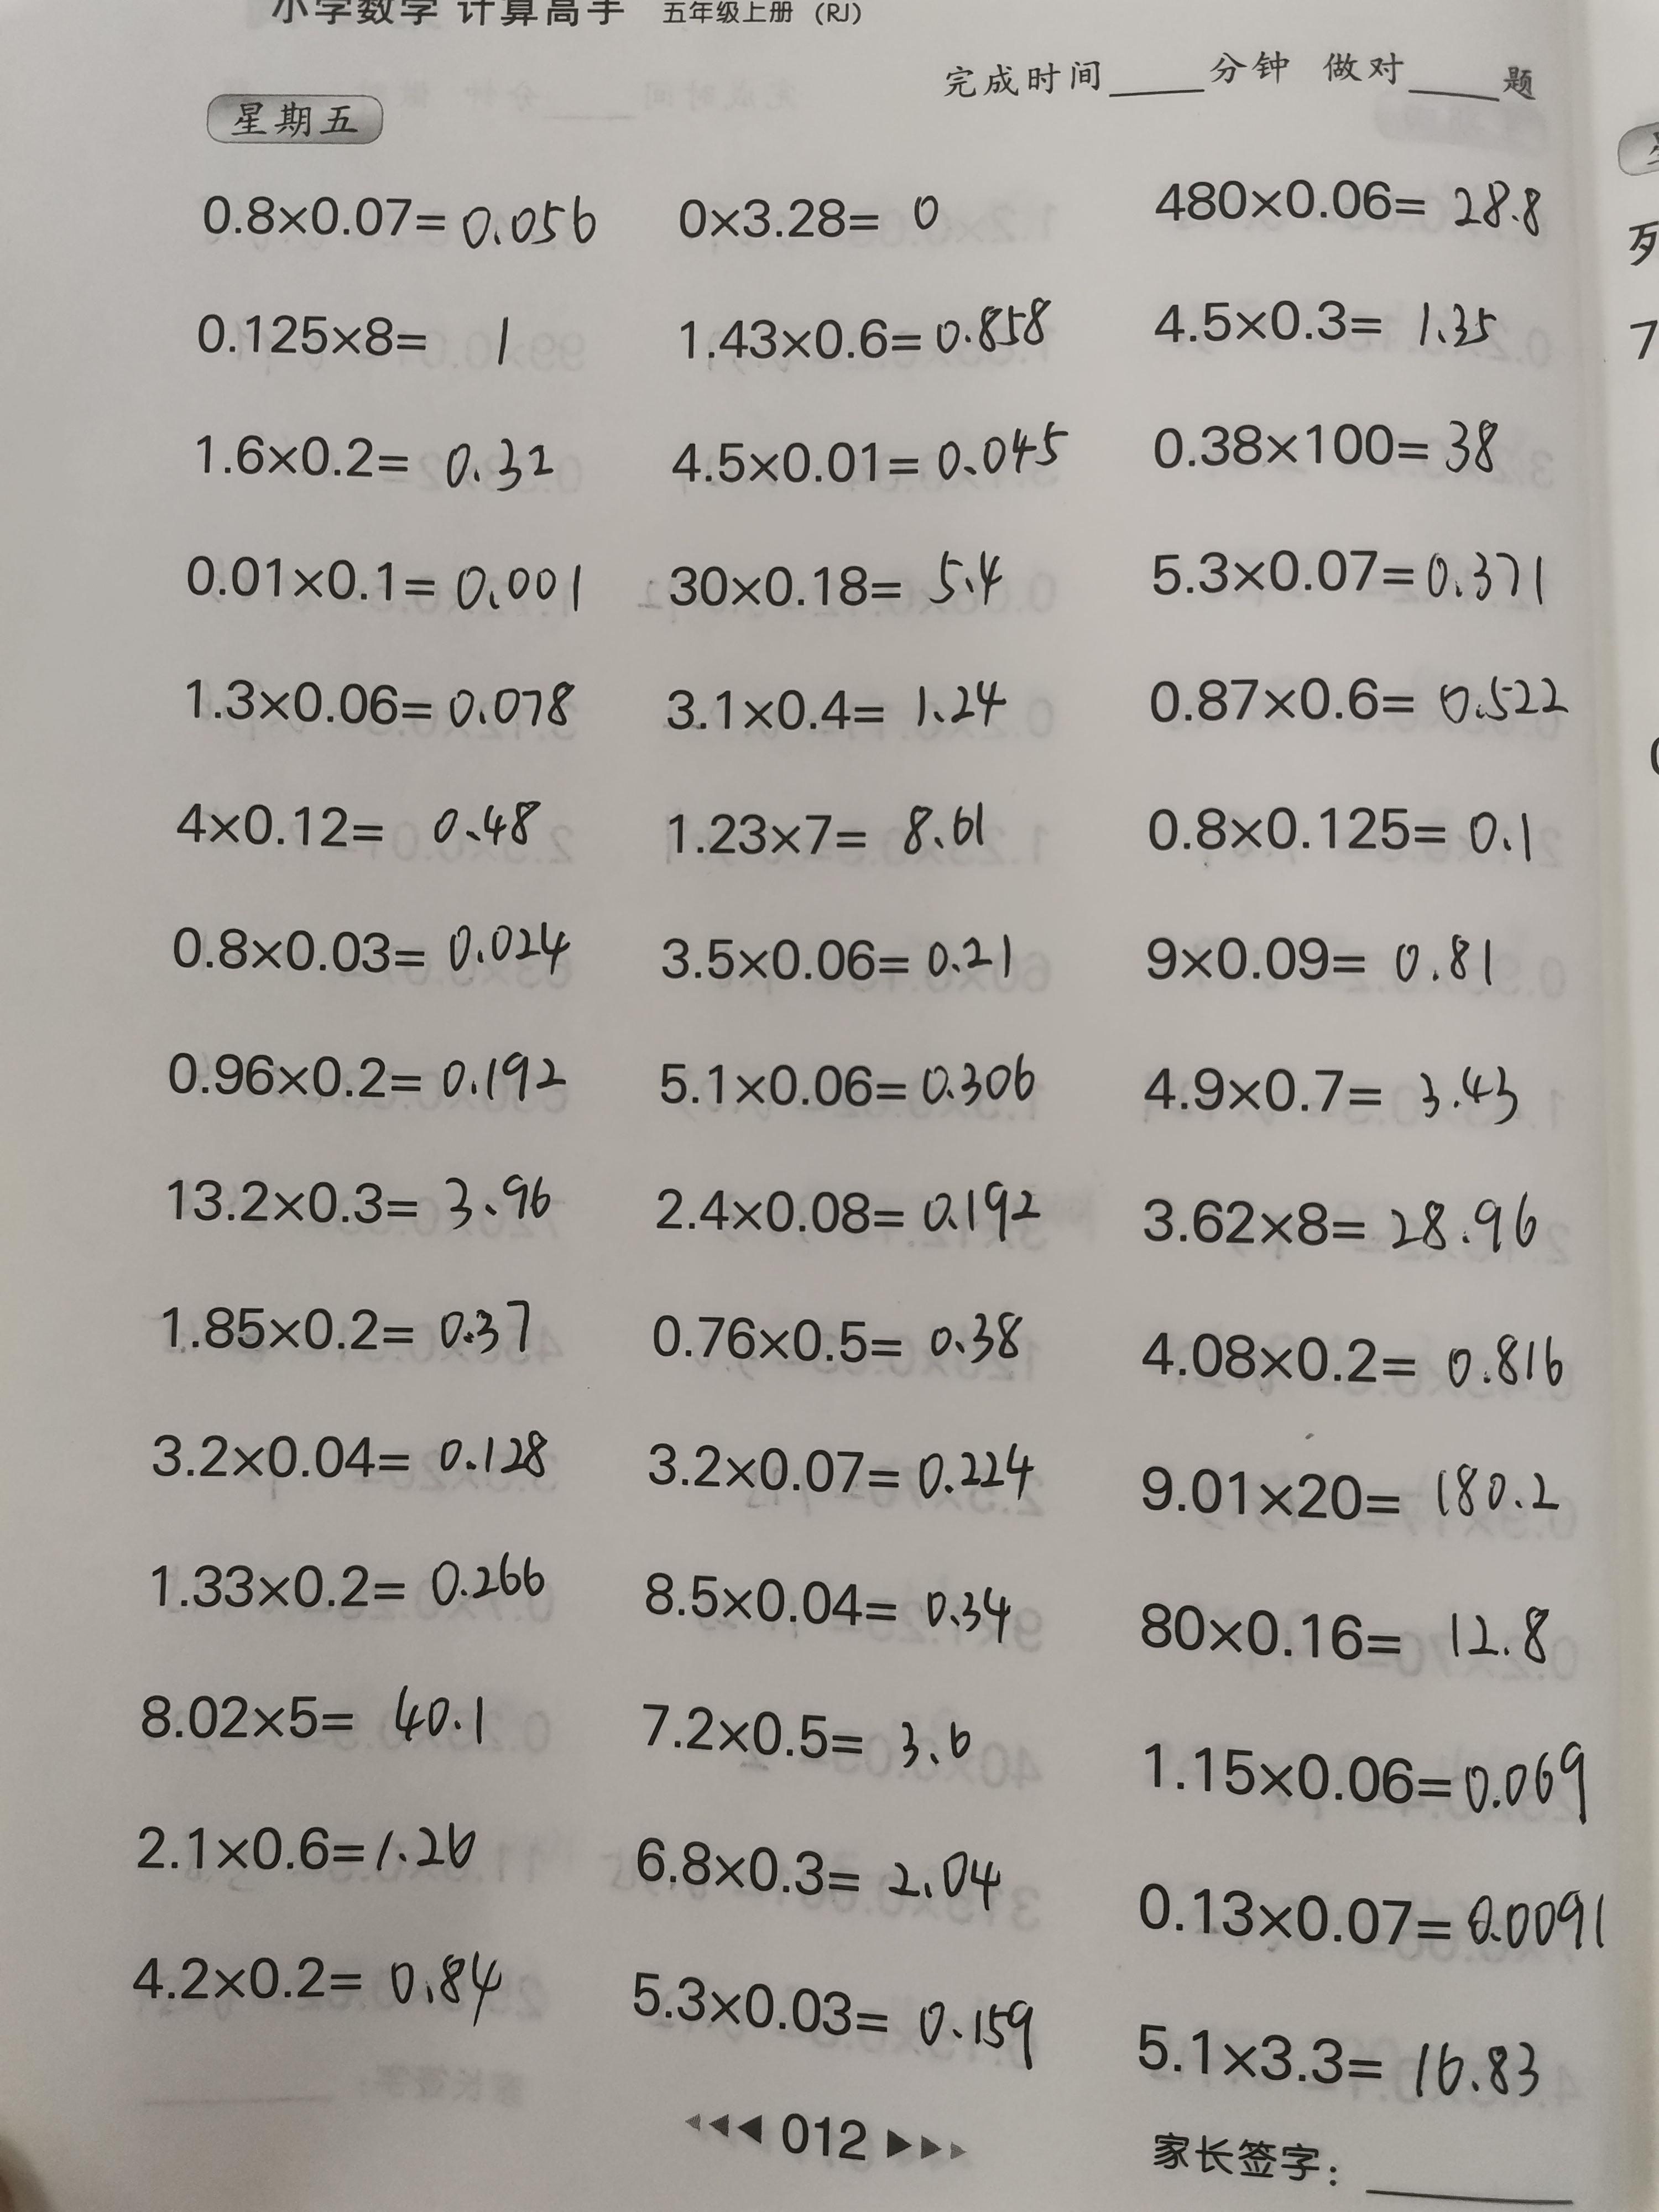equation: (1124, 1716, 1598, 1832), (613, 1952, 1049, 2078), (1122, 1862, 1615, 1961), (1117, 2000, 1561, 2109), (1127, 1301, 1589, 1399), (624, 1554, 1044, 1660), (1141, 152, 1565, 256), (166, 531, 610, 631), (1121, 643, 1582, 737), (633, 1163, 1072, 1259), (118, 1930, 514, 2036), (1134, 775, 1553, 874), (638, 1418, 1047, 1517), (1119, 1588, 1575, 1677), (1133, 1049, 1544, 1146), (1126, 529, 1563, 620), (629, 1820, 1014, 1923), (171, 657, 599, 749), (120, 1660, 511, 1761), (1129, 1176, 1561, 1266), (1126, 1451, 1577, 1536), (185, 178, 613, 266), (178, 413, 566, 509), (1129, 907, 1520, 1001), (652, 408, 1077, 493), (629, 1681, 990, 1780), (157, 1028, 582, 1111), (127, 1541, 570, 1622), (647, 653, 1016, 749), (185, 287, 537, 387), (1134, 392, 1514, 482), (162, 773, 565, 859), (166, 907, 580, 988), (659, 286, 1068, 366), (143, 1285, 552, 1366), (638, 1294, 1039, 1376), (120, 1803, 497, 1888), (136, 1418, 565, 1493), (1133, 282, 1514, 366), (648, 909, 1033, 991), (153, 1158, 563, 1235), (647, 1040, 1049, 1116), (653, 782, 1012, 867), (653, 535, 1011, 618), (664, 176, 964, 249)
